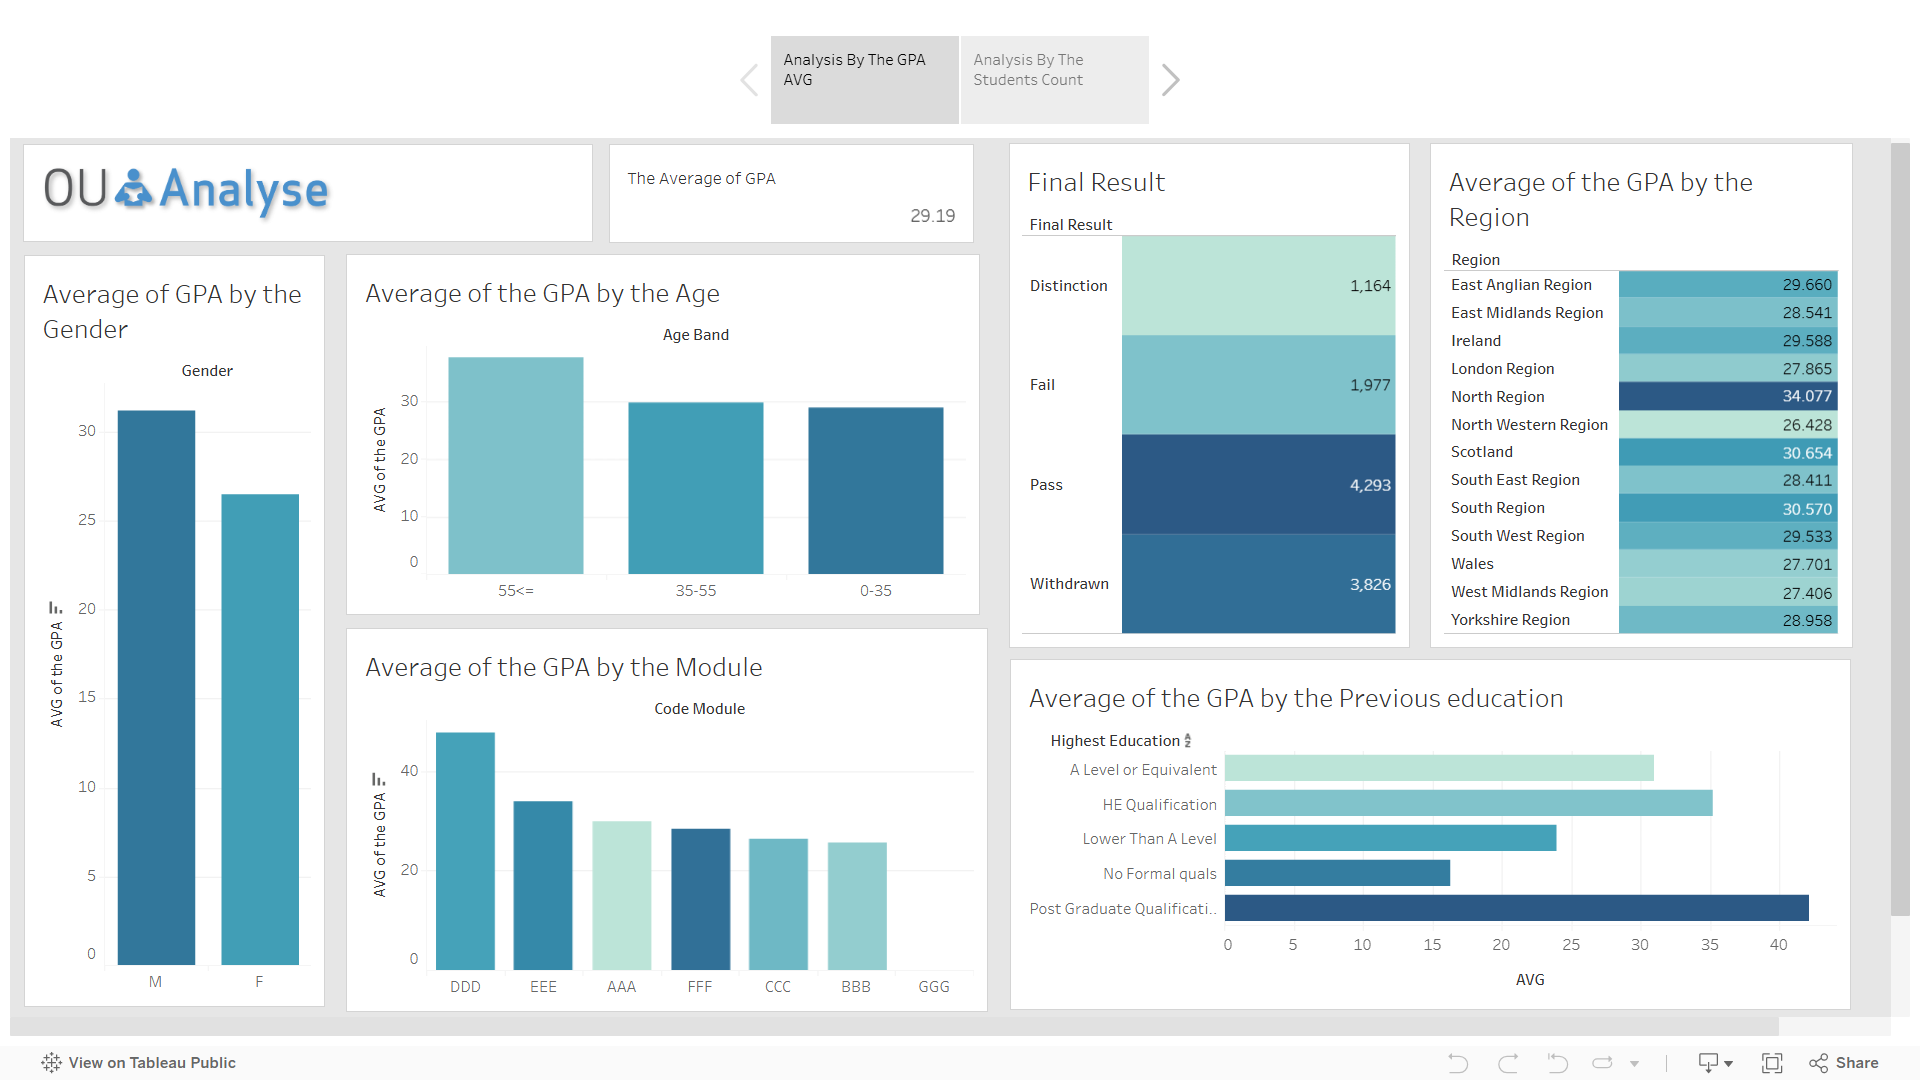

Layout of this report page (visuals, bound fields, positions):
{"tool":"tableau","page":{"name":"Open University GPA Analysis ","canvas":[1600,801],"ordinal":0},"visuals":[{"type":"image","param":"Image/logo_hires.png","box":[0,0,475.9,98]},{"type":"worksheet","title":"The Average of GPA","mark":"Automatic","box":[469.2,0,311.5,99]},{"type":"worksheet","title":"Average of the GPA by the Age","mark":"Automatic","rows":["Calculation_1583578243384971264"],"cols":["age_band"],"box":[259,88,527,309]},{"type":"worksheet","title":"Average of GPA by the Gender","mark":"Automatic","rows":["Calculation_1583578243384971264"],"cols":["gender"],"box":[1,89,261.2,621]},{"type":"worksheet","title":"Average of the GPA by the Module","mark":"Automatic","rows":["Calculation_1583578243384971264"],"cols":["code_module"],"box":[259,387,533,327]},{"type":"worksheet","title":"Average of the GPA by the Previous education","mark":"Automatic","rows":["highest_education"],"cols":["Calculation_1583578243384971264"],"box":[790,412,693,301]}]}

Visuals, with their boxes on the page's 1600x801 design canvas (x1, y1, x2, y2). These are canvas units, not pixel positions in the 1920x1080 screenshot, which may show the page scaled, cropped or inside an application window:
image: {"left": 0, "top": 0, "right": 476, "bottom": 98}
"The Average of GPA" worksheet: {"left": 469, "top": 0, "right": 781, "bottom": 99}
"Average of the GPA by the Age" worksheet: {"left": 259, "top": 88, "right": 786, "bottom": 397}
"Average of GPA by the Gender" worksheet: {"left": 1, "top": 89, "right": 262, "bottom": 710}
"Average of the GPA by the Module" worksheet: {"left": 259, "top": 387, "right": 792, "bottom": 714}
"Average of the GPA by the Previous education" worksheet: {"left": 790, "top": 412, "right": 1483, "bottom": 713}
